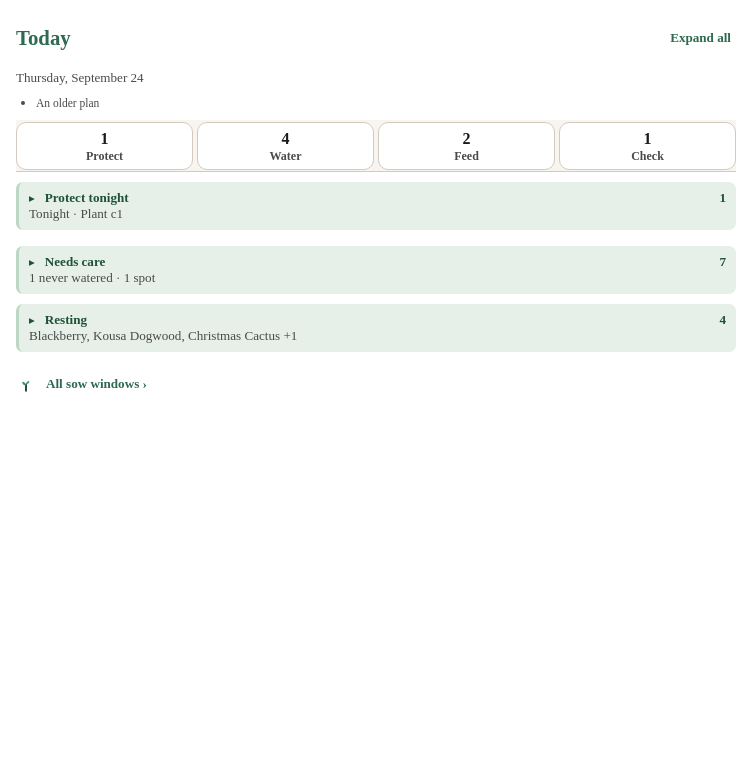
Scenario: TodayV2 skeleton › Expand all / Collapse all move the visit only — nothing is remembered
Click the button "Expand all".
click(701, 38)  # box 665,16 -> 736,60
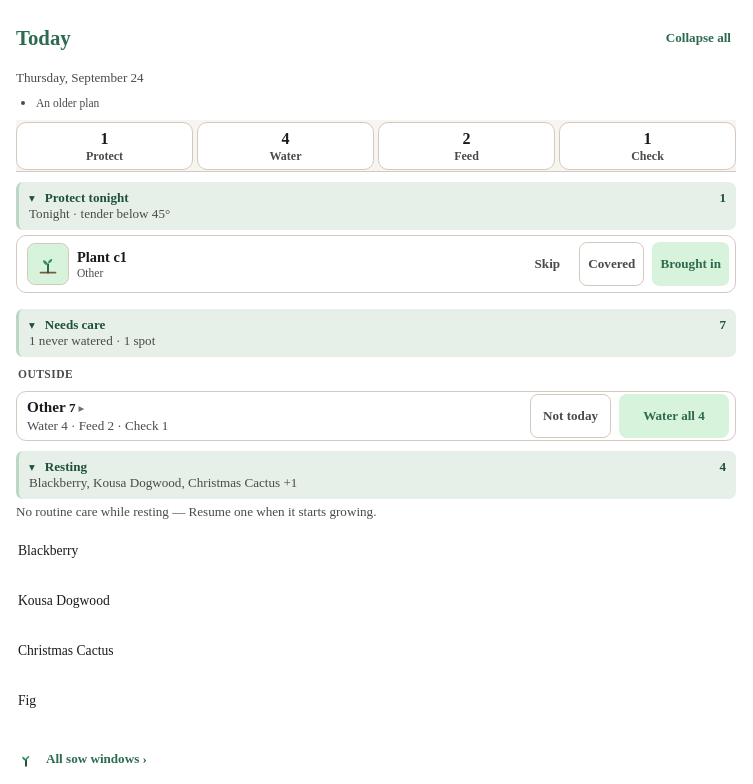
Now the button "▾ Needs care 7 1 never watered · 1 spot" is expanded, box 19,309 -> 736,357
Now the button "▾ Resting 4 Blackberry, Kousa Dogwood, Christmas Cactus +1" is expanded, box 19,451 -> 736,499
Click the button "Collapse all".
click(698, 38)  # box 661,16 -> 736,60
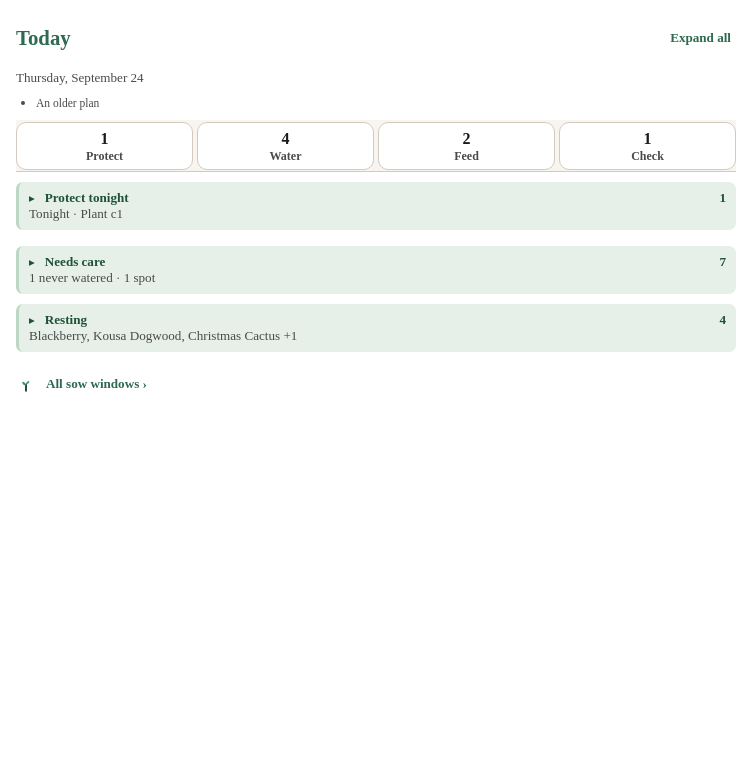
Now the button "▸ Needs care 7 1 never watered · 1 spot" is collapsed, box 19,246 -> 736,294
